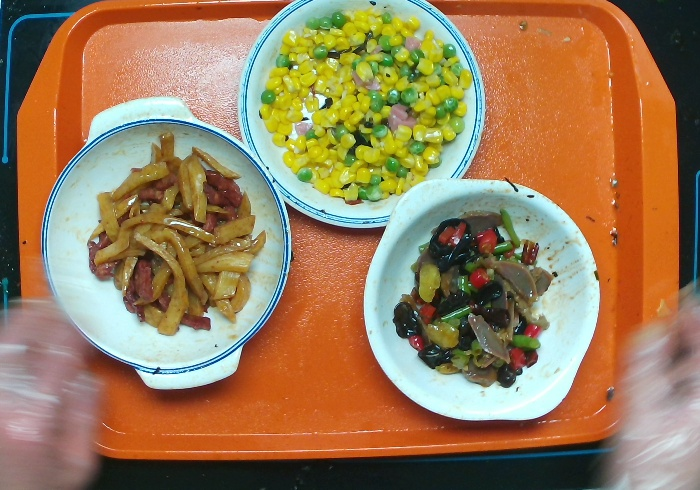HZYJPL-Dai_Er_Bai_Yuan_Wan: (358, 175, 603, 426)
HZYJPL-Lan_Bian_Dai_Er_Wan: (37, 91, 294, 393)
HZYJPL-Lan_Bian_Yuan_Die: (233, 1, 490, 233)
